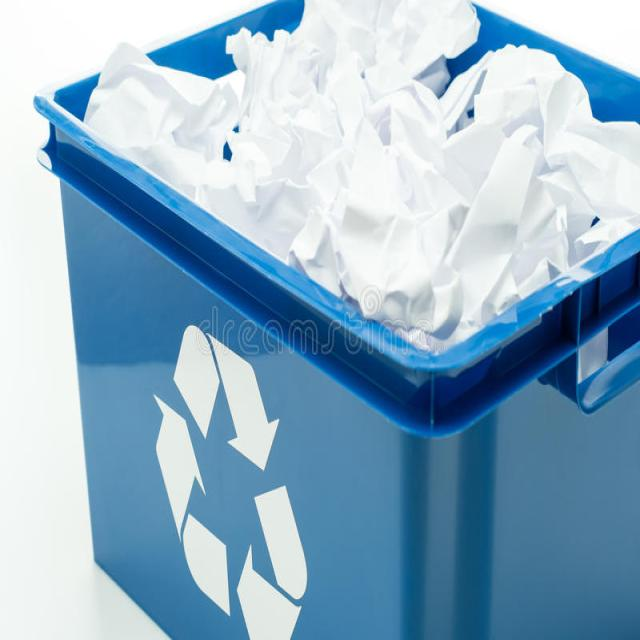Papel: (427, 29, 640, 268), (240, 5, 486, 192), (287, 129, 469, 339), (78, 24, 265, 222)
